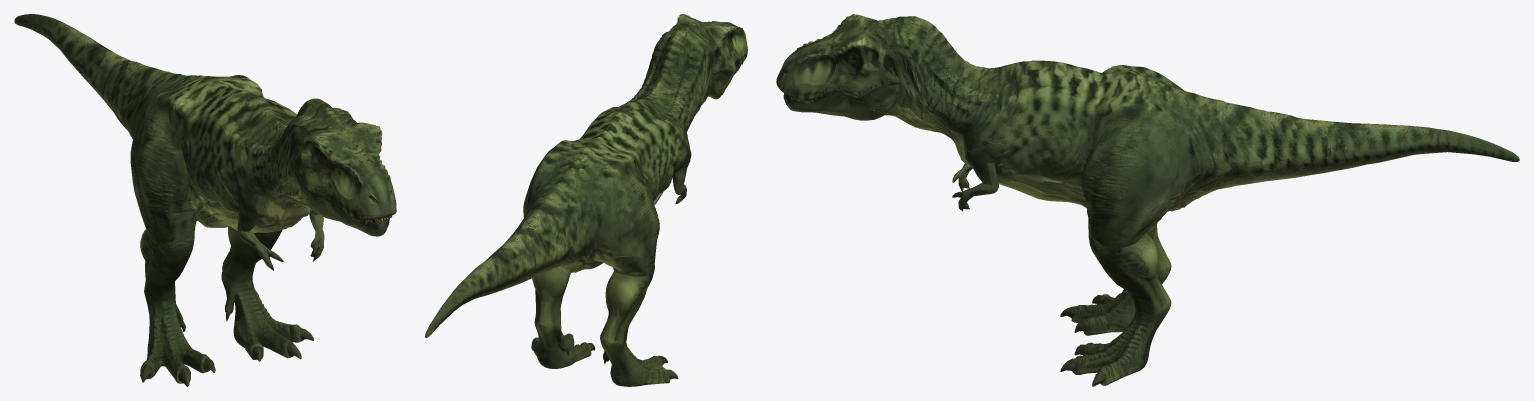
The model's file is trexgreen.glb.
3 renders of one model, left to right at view 1: azimuth 30°, elevation 25°; view 2: azimuth 150°, elevation 25°; view 3: azimuth 270°, elevation 25°, orthographic. The views are drawn at different scales.
Size of the model in its own units: 0.5075 by 0.9305 by 1.9.
1 material, 1 textured.
